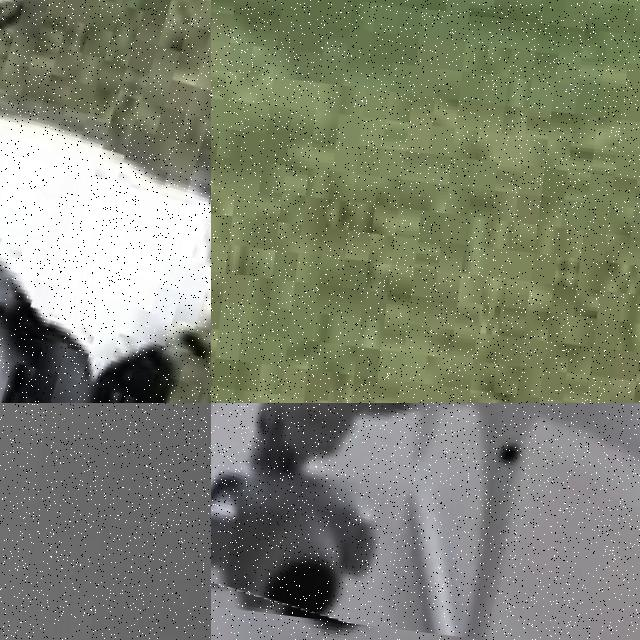0: (0, 0, 211, 403)
drone: (211, 403, 640, 640)
